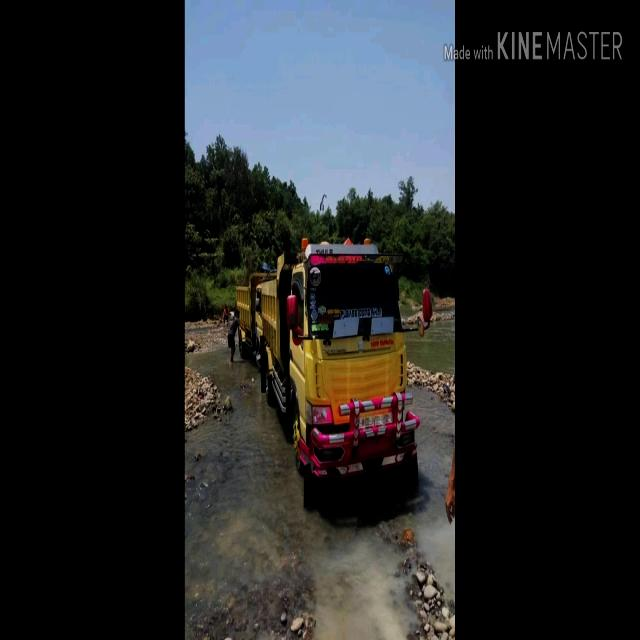truck: (236, 240, 436, 510)
